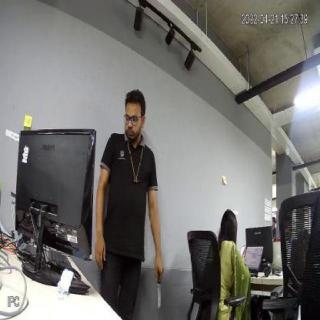knife: (154, 272, 166, 316)
